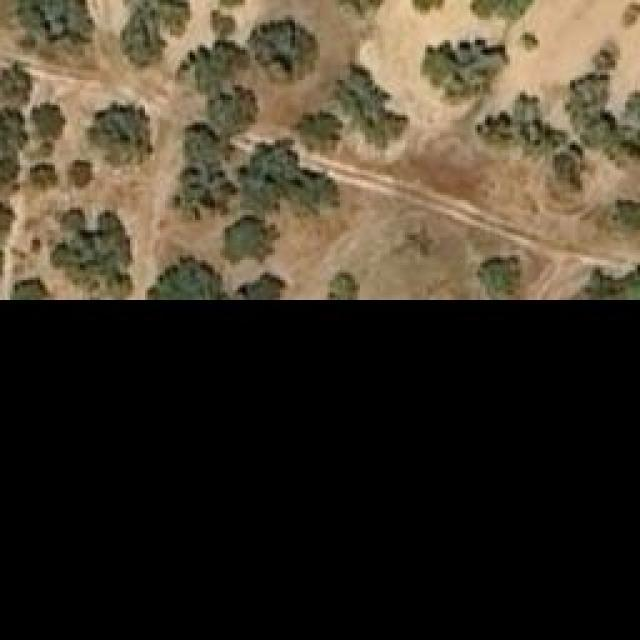Tree: (50, 210, 132, 297), (335, 63, 408, 148), (245, 135, 335, 203), (423, 35, 508, 103), (122, 0, 190, 65), (85, 105, 153, 165), (250, 20, 308, 83), (17, 0, 95, 45), (148, 252, 218, 300), (223, 213, 276, 263), (205, 90, 255, 138), (293, 108, 343, 153), (25, 105, 65, 160), (477, 250, 525, 295), (235, 272, 285, 300), (585, 43, 623, 78), (0, 65, 31, 107), (68, 160, 103, 195), (325, 268, 363, 298), (610, 195, 640, 232), (470, 0, 528, 18), (205, 10, 235, 40), (10, 275, 48, 298), (30, 162, 58, 190), (55, 208, 85, 233), (413, 0, 446, 15), (518, 33, 541, 53)
